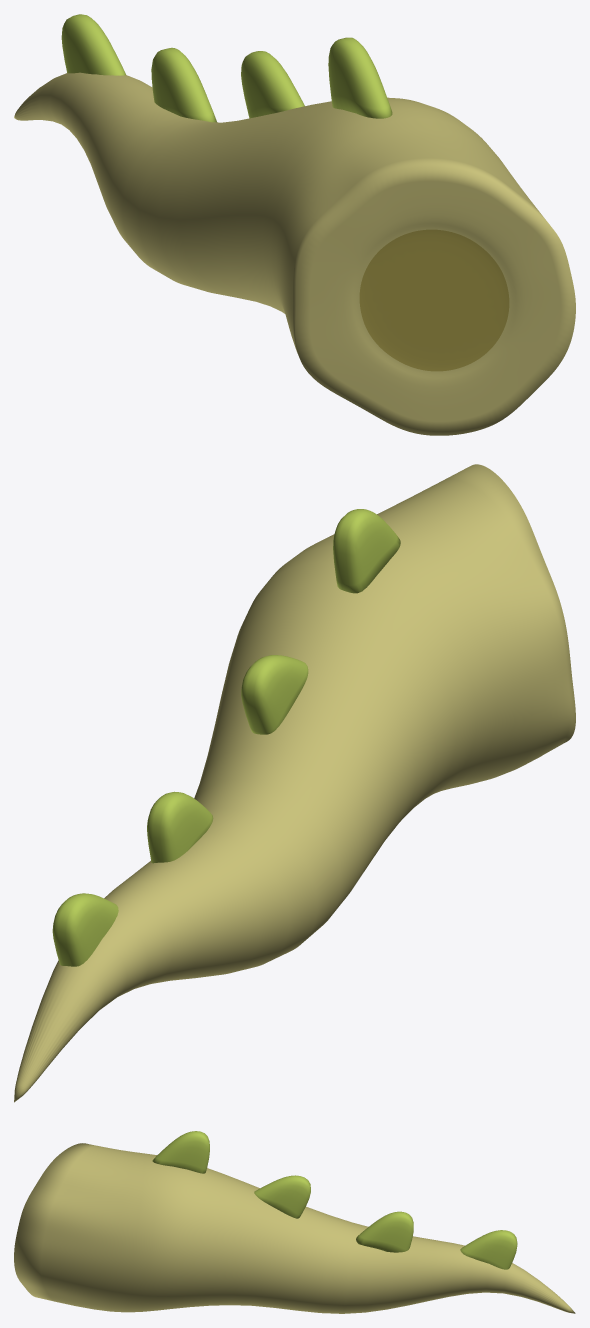
Rendered from lacna ends.fbx.
3 views of the same model, one above another, from view 1: azimuth 30°, elevation 25°; view 2: azimuth 150°, elevation 25°; view 3: azimuth 270°, elevation 25° (orthographic). The views are drawn at different scales.
Visible parts, largest first — view 1: lacna ends, lacna spines.003; view 2: lacna ends, lacna spines.003; view 3: lacna ends, lacna spines.003.
Part boxes in pixels (bbox=[...]): lacna ends: bbox=[14, 72, 575, 435]; lacna spines.003: bbox=[61, 14, 392, 122]; lacna ends: bbox=[14, 464, 575, 1102]; lacna spines.003: bbox=[52, 509, 400, 966]; lacna ends: bbox=[14, 1143, 575, 1313]; lacna spines.003: bbox=[152, 1131, 517, 1269].
Size of the model in its own units: 39.18 by 47 by 129.
